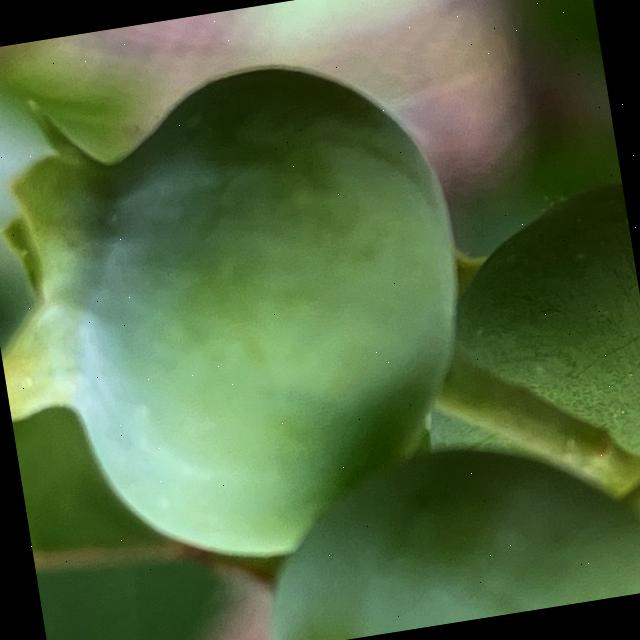Blueberries: (0, 41, 503, 598), (136, 415, 640, 640)
